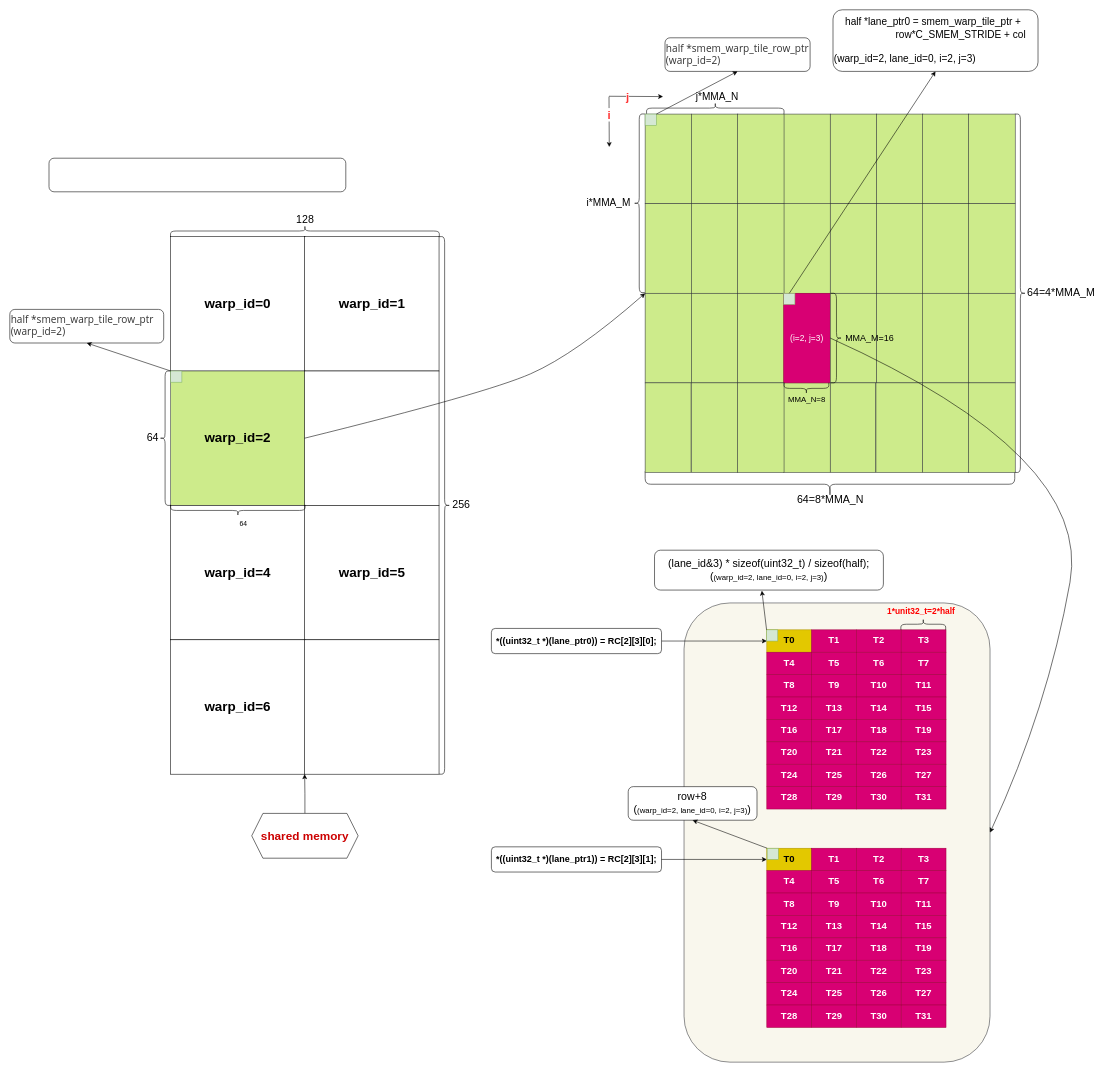
Image size: 1110x1072. Some labels were removed from this diagram. The centre of each missing label's shape, as x and y in pixels:
half *smem_warp_tile_row_ptr = smemC + ((warp_id>>1)<<13);: the point at 197,175
warp_id=3: the point at 371,437
warp_id=7: the point at 371,706
